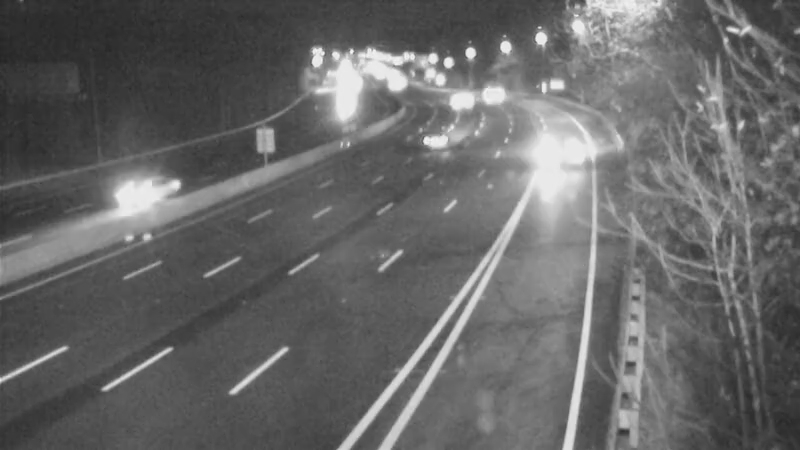vehicle: (519, 112, 599, 192), (105, 160, 185, 240), (467, 69, 517, 119), (431, 75, 481, 125), (409, 117, 459, 167)
